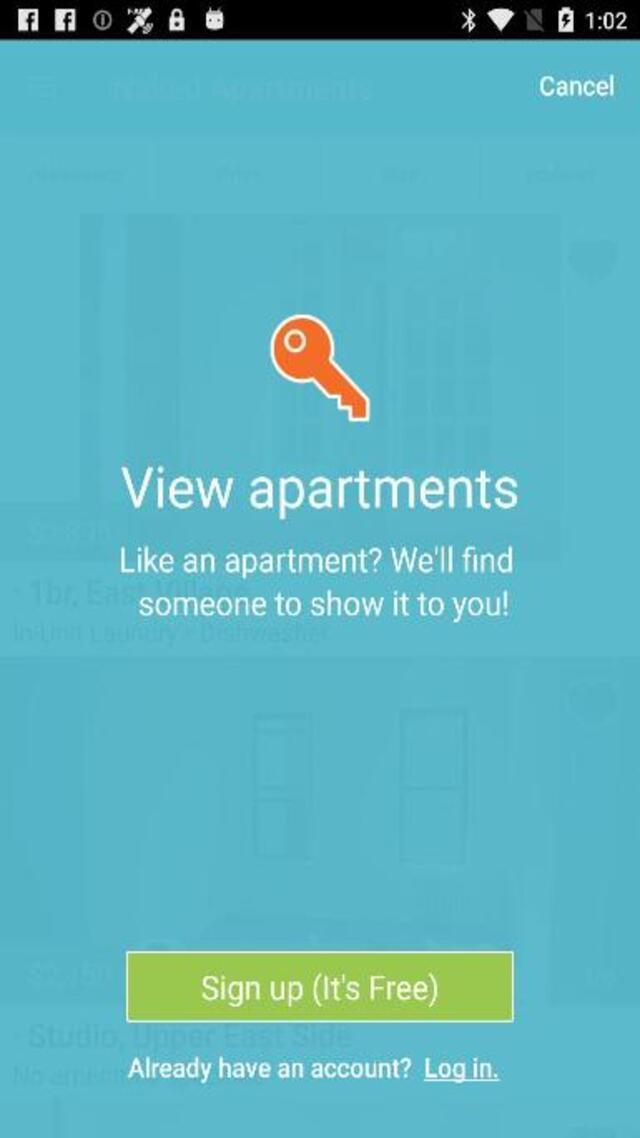Image: (269, 314, 369, 422)
Text: (121, 466, 517, 519), (110, 542, 519, 581), (135, 589, 514, 629), (128, 1055, 500, 1082), (198, 971, 440, 1011), (540, 75, 614, 96)
TextButton: (125, 950, 512, 1020)
